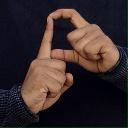hand: (20, 14, 73, 114), (48, 8, 119, 73)
